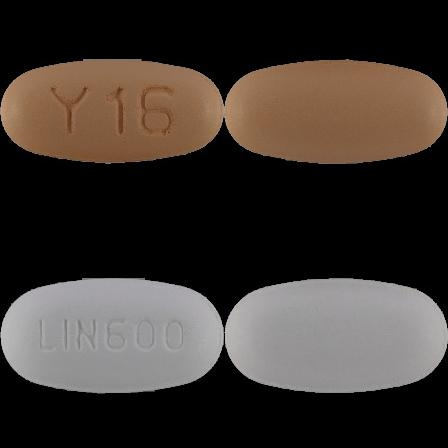60687-188: (0, 0, 224, 224)
